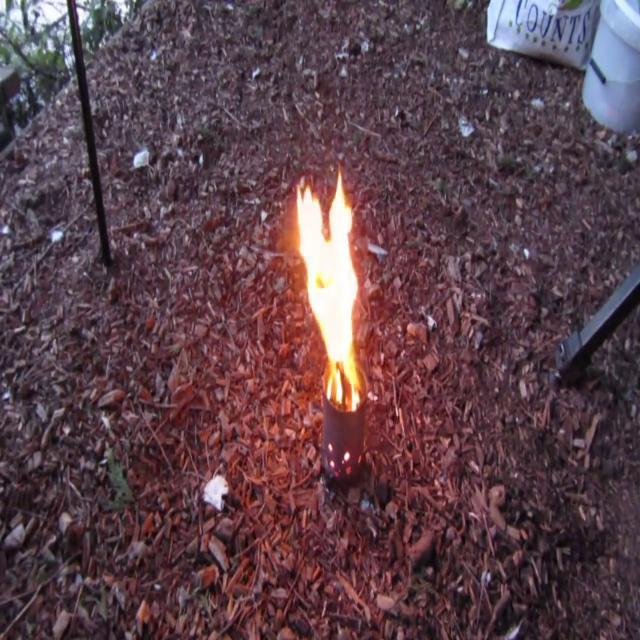Fire: (290, 172, 364, 396)
